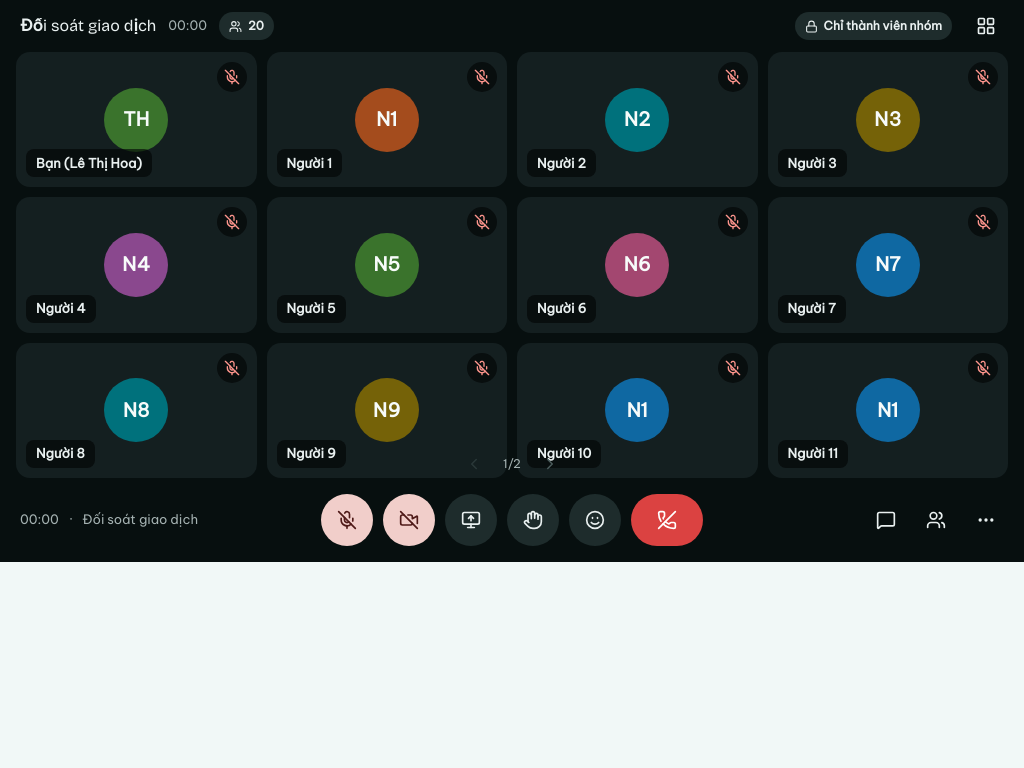
it: CallStage › layout by number of people › twenty people page the grid
Expected: the text "1/2" is shown, [503,456,521,471]
Click the button named "Trang sau": [550, 464] box [534,448,566,480]
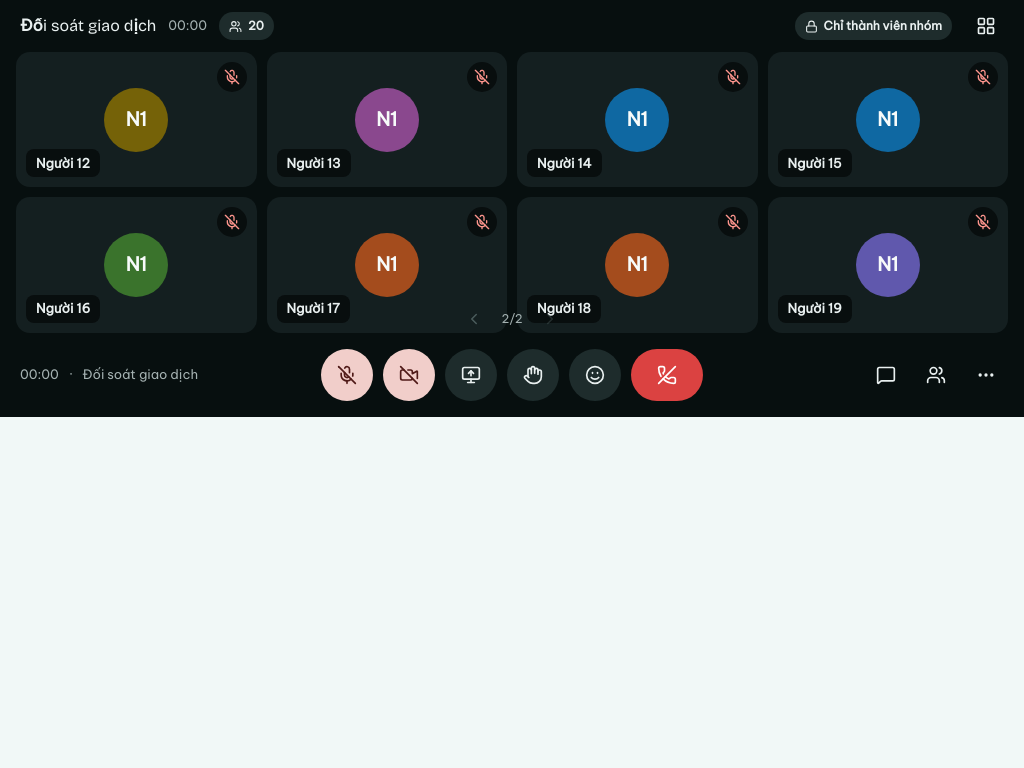
Result: the text "2/2" is shown at [502,311,523,326]
